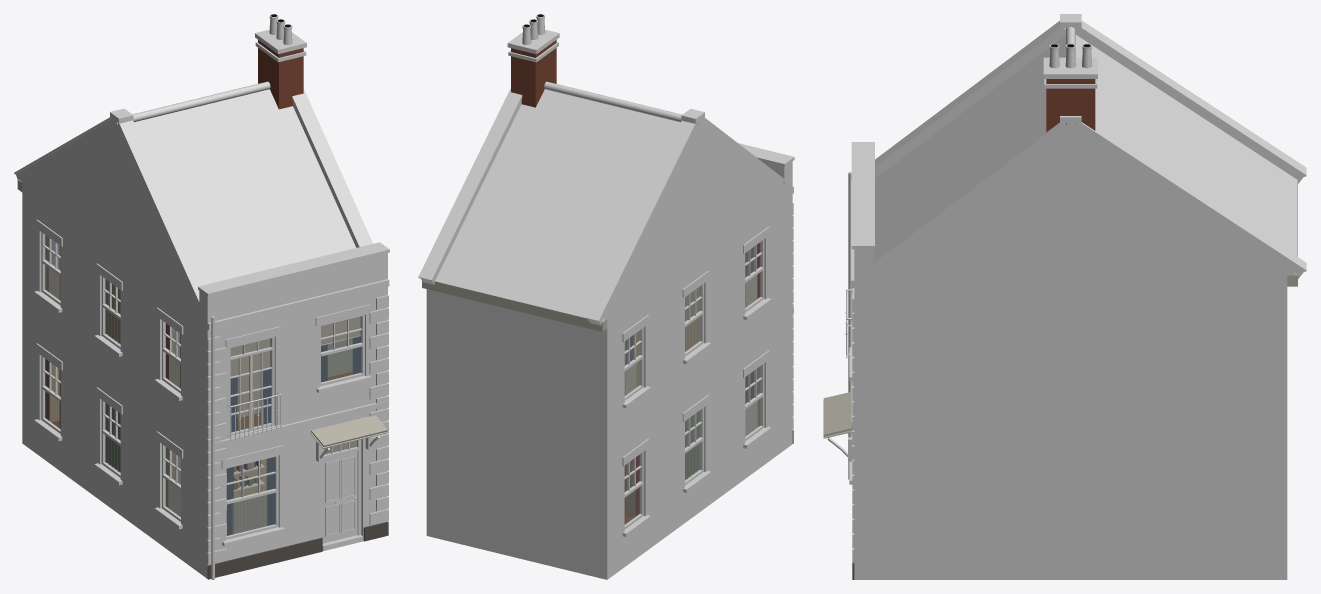
Rendered from GateStreet_BehindOuter5.glb.
The picture shows the model from 3 angles, left to right: view 1: azimuth 30°, elevation 25°; view 2: azimuth 150°, elevation 25°; view 3: azimuth 270°, elevation 25°; orthographic projection. The views are drawn at different scales.
Visible parts, largest first — view 1: GateStreet_BehindOuter5; view 2: GateStreet_BehindOuter5; view 3: GateStreet_BehindOuter5.
Part boxes in pixels (bbox=[...]): GateStreet_BehindOuter5: bbox=[14, 14, 389, 579]; GateStreet_BehindOuter5: bbox=[418, 14, 794, 579]; GateStreet_BehindOuter5: bbox=[823, 14, 1306, 579].
Size of the model in its own units: 4.61 by 10.72 by 8.93.
